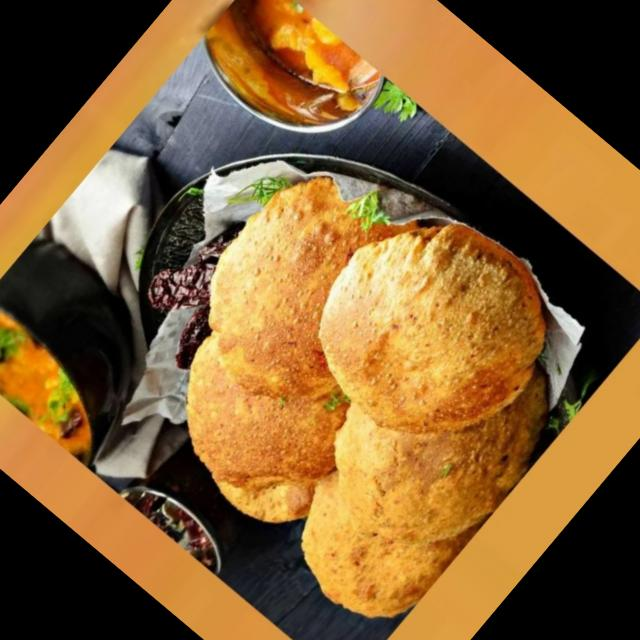Bhatura: (95, 113, 628, 640)
